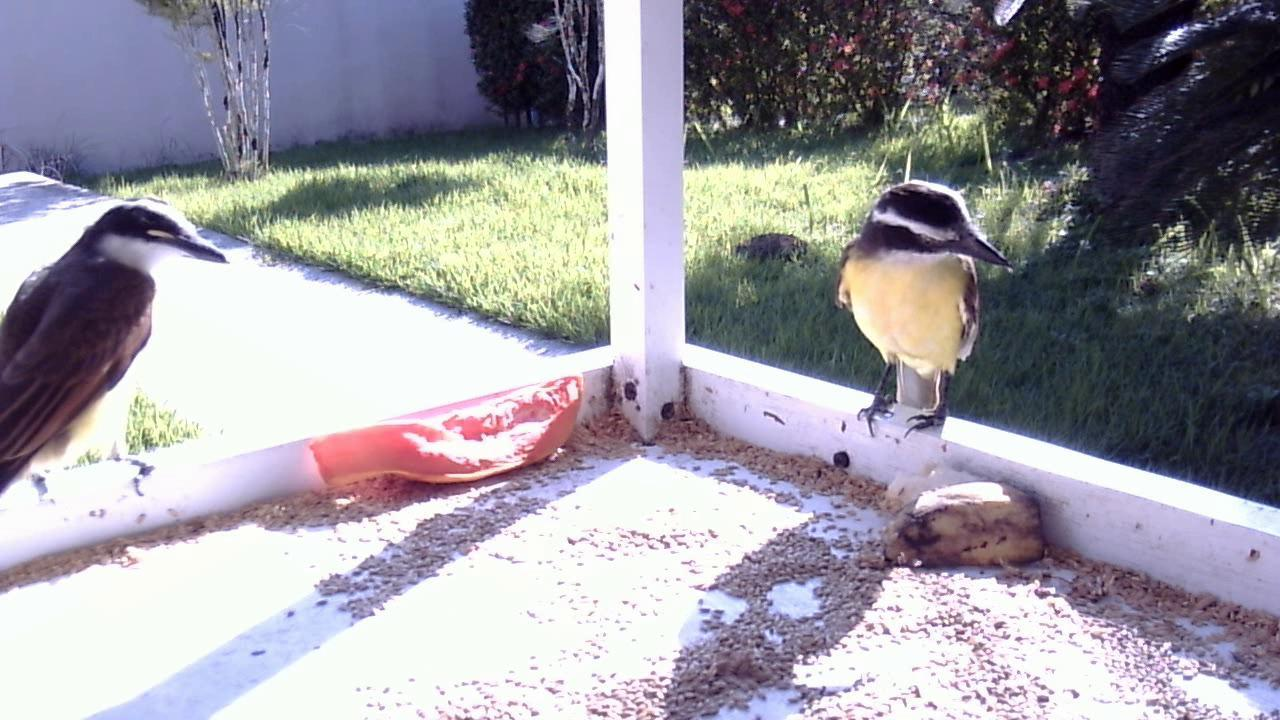bem_te_vi: (1, 151, 242, 554), (825, 171, 1017, 461)
